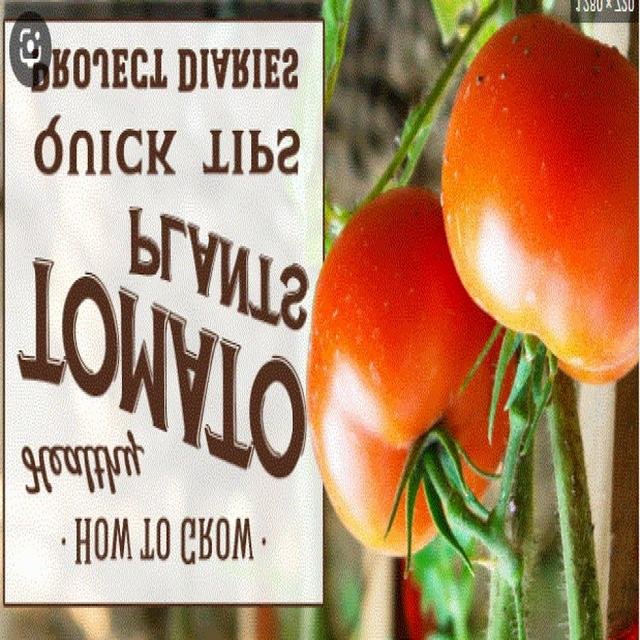Healthy Fruit: (116, 138, 362, 272)
